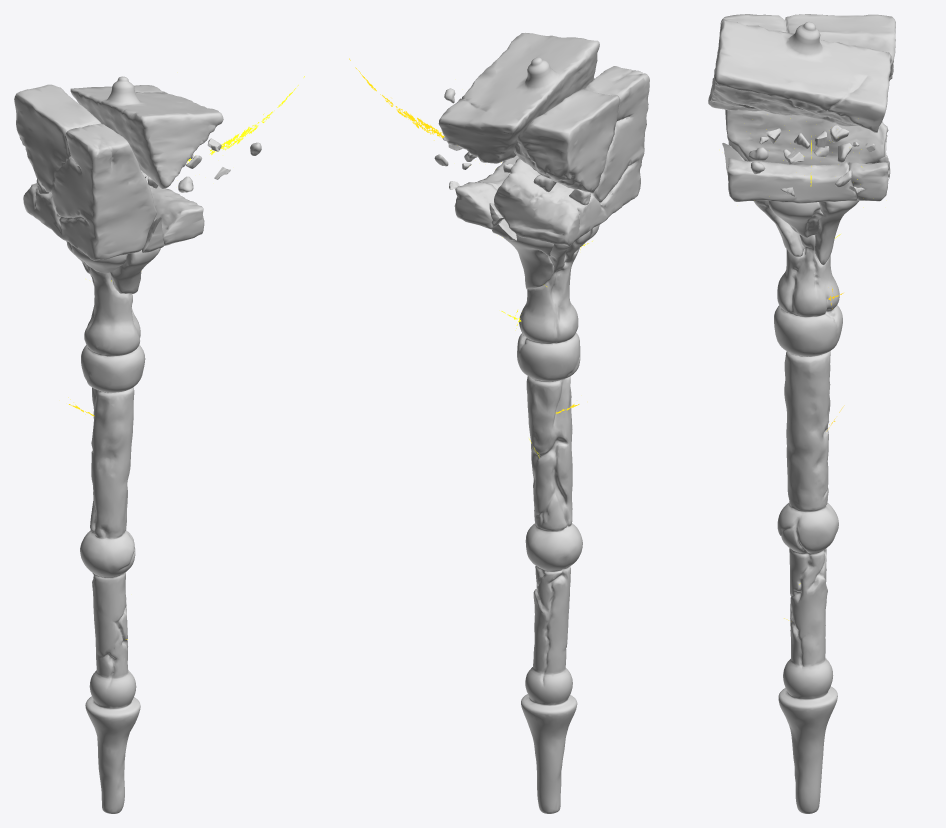
Rendered from marikashammer.fbx.
3 renders of one model, left to right at view 1: azimuth 30°, elevation 25°; view 2: azimuth 150°, elevation 25°; view 3: azimuth 270°, elevation 25°, orthographic. The views are drawn at different scales.
Visible parts, largest first — view 1: hammer; view 2: hammer; view 3: hammer.
Boxes of the visible parts, x1,y1,x2,y2 form: hammer: [14, 76, 261, 813]; hammer: [434, 33, 649, 813]; hammer: [708, 14, 895, 813].
Bounding box in the file's own units: 22.74 × 61.79 × 17.89.
2 materials, 1 textured.
